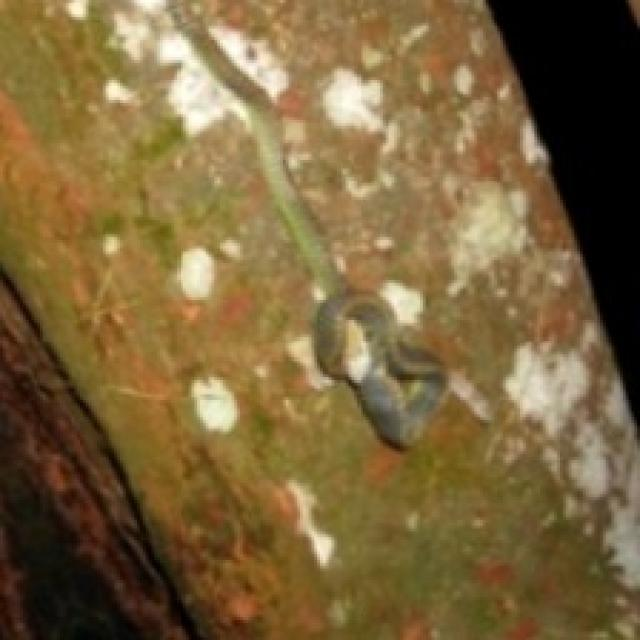paradise tree snake: (166, 0, 446, 446)
